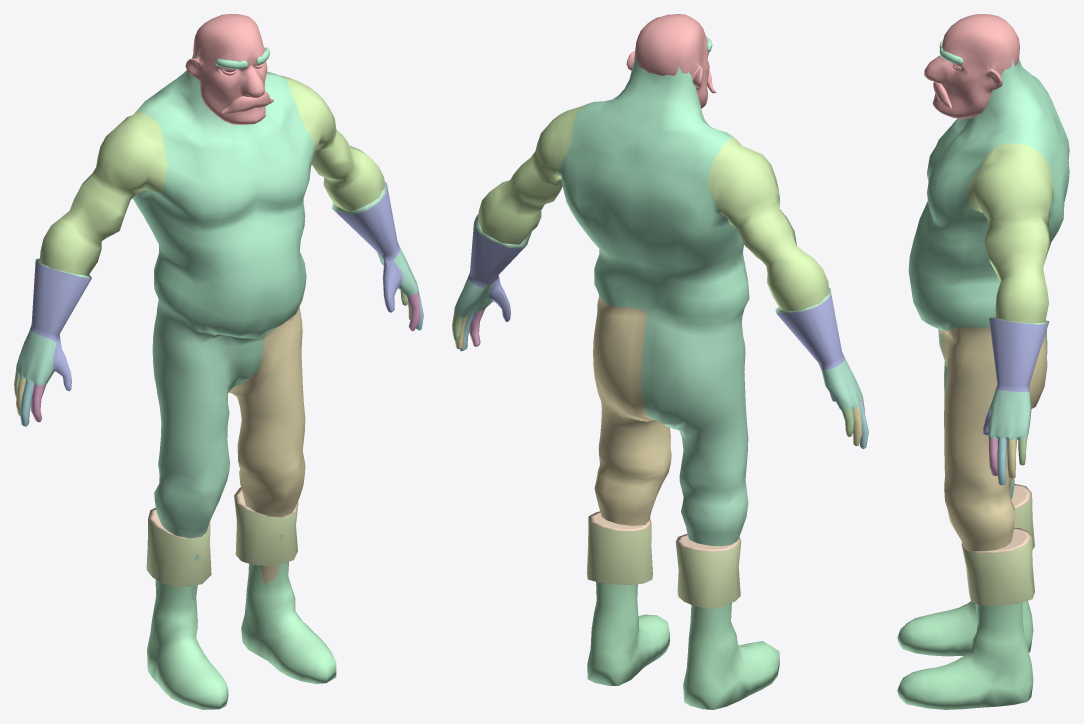
The model's file is SM_NPC02.fbx.
The picture shows the model from 3 angles, left to right: view 1: azimuth 30°, elevation 25°; view 2: azimuth 150°, elevation 25°; view 3: azimuth 270°, elevation 25°; orthographic projection.
Visible parts, largest first — view 1: SM_NPC02; view 2: SM_NPC02; view 3: SM_NPC02.
Boxes of the visible parts, x1=… form: SM_NPC02: x1=14, y1=14, x2=423, y2=709; SM_NPC02: x1=452, y1=14, x2=868, y2=709; SM_NPC02: x1=897, y1=14, x2=1069, y2=709.
Size of the model in its own units: 103 by 159 by 38.01.
